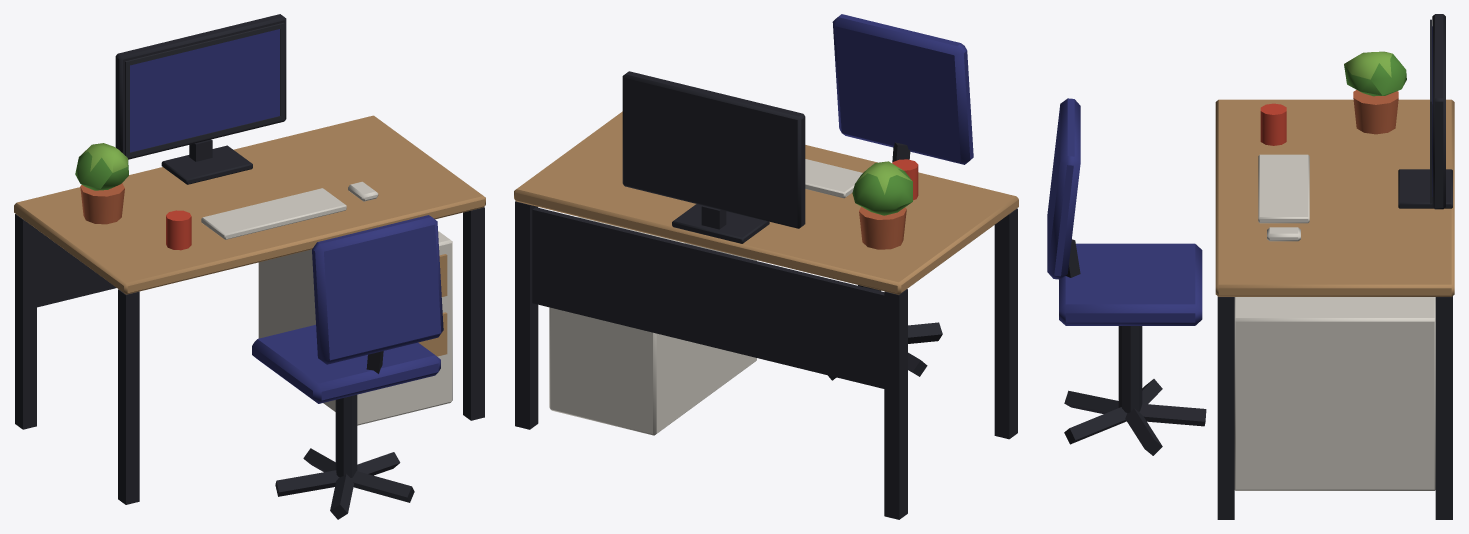
File: workstation.glb
The picture shows the model from 3 angles, left to right: view 1: azimuth 30°, elevation 25°; view 2: azimuth 150°, elevation 25°; view 3: azimuth 270°, elevation 25°; orthographic projection. The views are drawn at different scales.
Parts seen in each view (by area): view 1: body, screen; view 2: body; view 3: body.
Part boxes in pixels (x1,y1,x2,y2): body: (14,14,485,519); screen: (130,29,279,152); body: (514,14,1018,519); body: (1047,14,1454,519).
Size of the model in its own units: 1.3 by 1.2 by 1.19.
